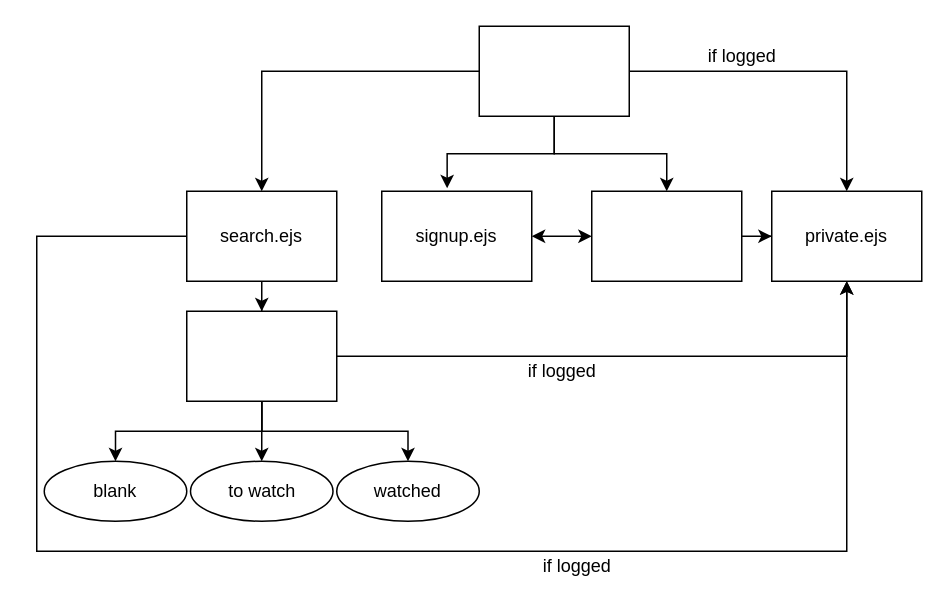
Image size: 948x608. Some labels were removed from this diagram. Each missing label, with the centre of its shape:
"film.ejs" belongs at (x=261, y=355).
"index.ejs" belongs at (x=553, y=70).
"login.ejs" belongs at (x=666, y=235).
